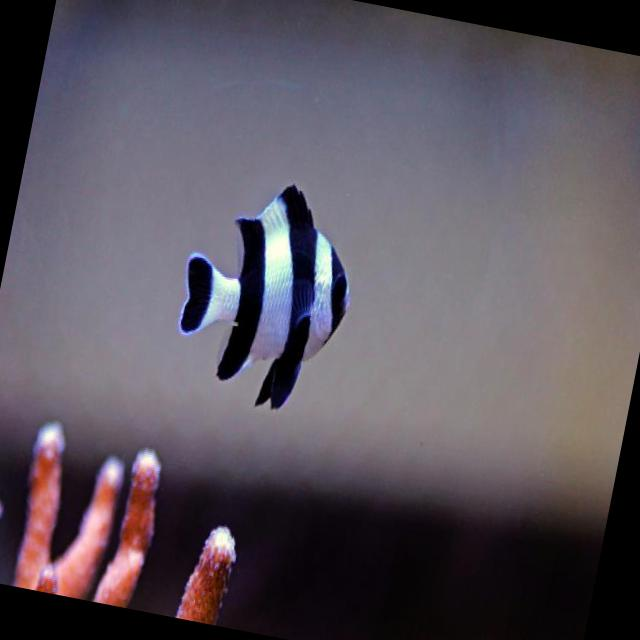Three_striped DasmselFish: (164, 169, 370, 426)
